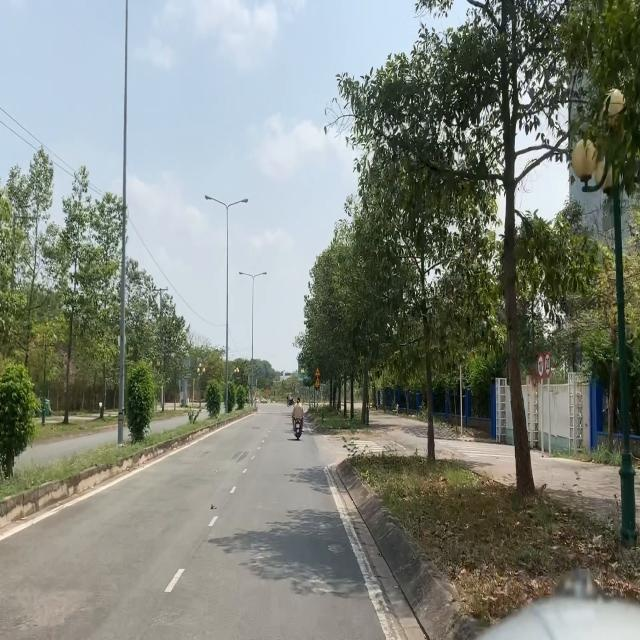bien_nguy_hiem: (314, 366, 321, 376), (315, 377, 320, 386)
